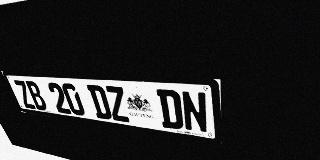0: (60, 83, 86, 116)
2: (46, 82, 72, 114)
B: (24, 81, 49, 111)
D: (156, 89, 184, 130), (86, 85, 113, 120)
N: (180, 90, 208, 134)
Z: (104, 86, 131, 123), (12, 80, 37, 109)
